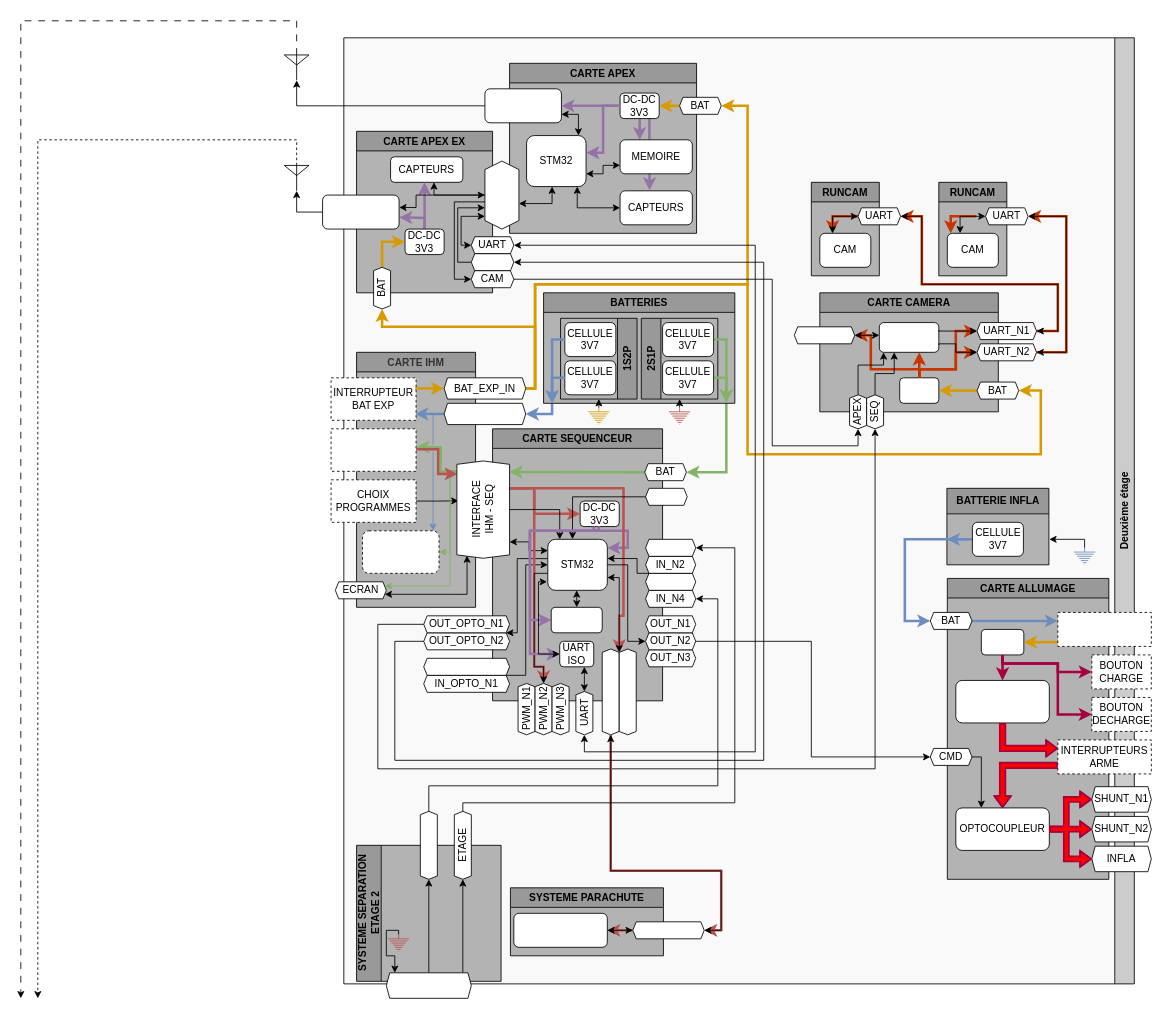
Some shapes in this 1166 by 1020 pixel diagram are drawn without their labels. The shapes that lost their labels are listed below. From the top down, each one's centre as x and y in pixels, then its label:
point (522, 105): TELEMESURE LORA
point (360, 211): TELEMESURE GFSK
point (501, 194): INTERFACE APEX
point (492, 262): IRQ
point (824, 335): ARDUCAM
point (908, 337): ESP32
point (919, 390): DC-DC 5V
point (484, 413): BAT_EXP_OUT
point (373, 449): INTERRUPTEUR BAT SEQ
point (666, 496): USB
point (400, 551): INDICATEUR NIVEAU BATTERIE
point (670, 547): IN_N1
point (670, 581): IN_N3
point (576, 619): WT901B
point (1104, 629): INTERRUPTEUR BAT
point (1002, 642): DC-DC 24V
point (466, 666): IN_OPTO_N2
point (610, 691): HALF_UART_N1
point (627, 691): HALF_UART_N2
point (1002, 701): CONDENSATEUR 11 000 uF
point (428, 844): JACK
point (560, 929): SERVOMOTEUR
point (668, 930): HALF_UART
point (428, 985): INTERFACE INTER-ETAGE
